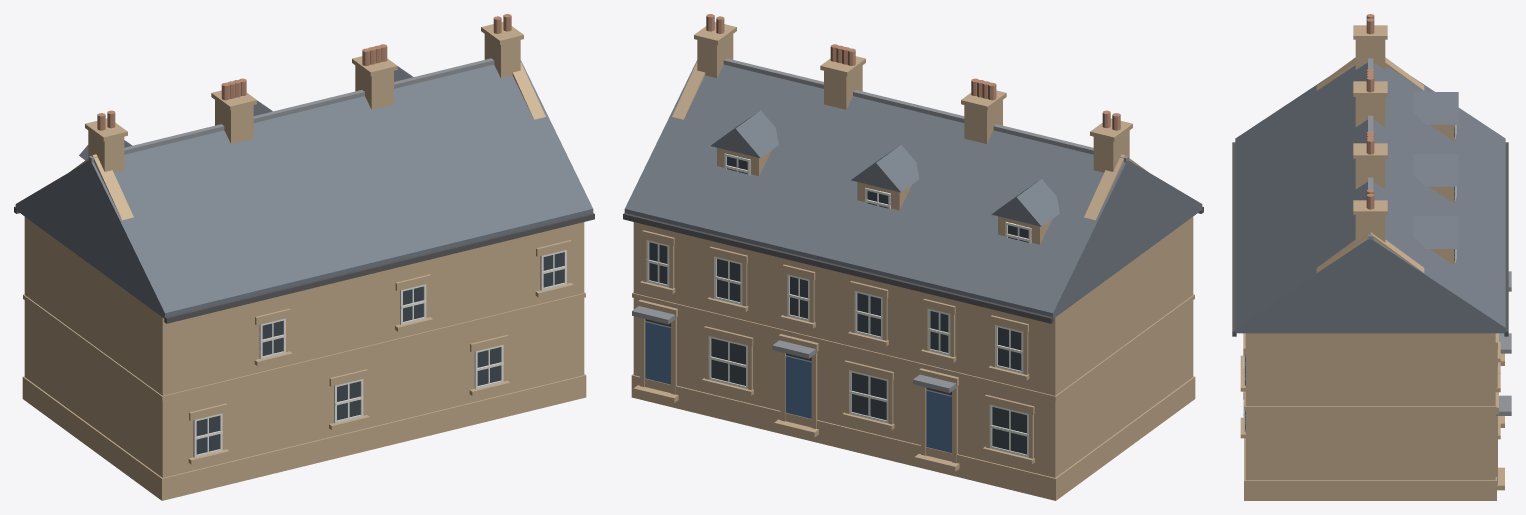
The model's file is terrace_b.glb.
3 views of the same model, side by side, from view 1: azimuth 30°, elevation 25°; view 2: azimuth 150°, elevation 25°; view 3: azimuth 270°, elevation 25° (orthographic). The views are drawn at different scales.
Visible parts, largest first — view 1: terrace_b; view 2: terrace_b; view 3: terrace_b.
Part boxes in pixels (x1=…): terrace_b: x1=14, y1=14, x2=594, y2=500; terrace_b: x1=623, y1=14, x2=1203, y2=500; terrace_b: x1=1232, y1=14, x2=1511, y2=500.
Size of the model in its own units: 15.24 by 11.32 by 9.5.
